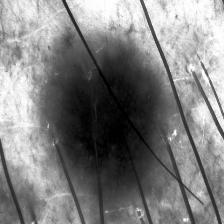Benign Marking or Mole: (58, 60, 154, 197)
